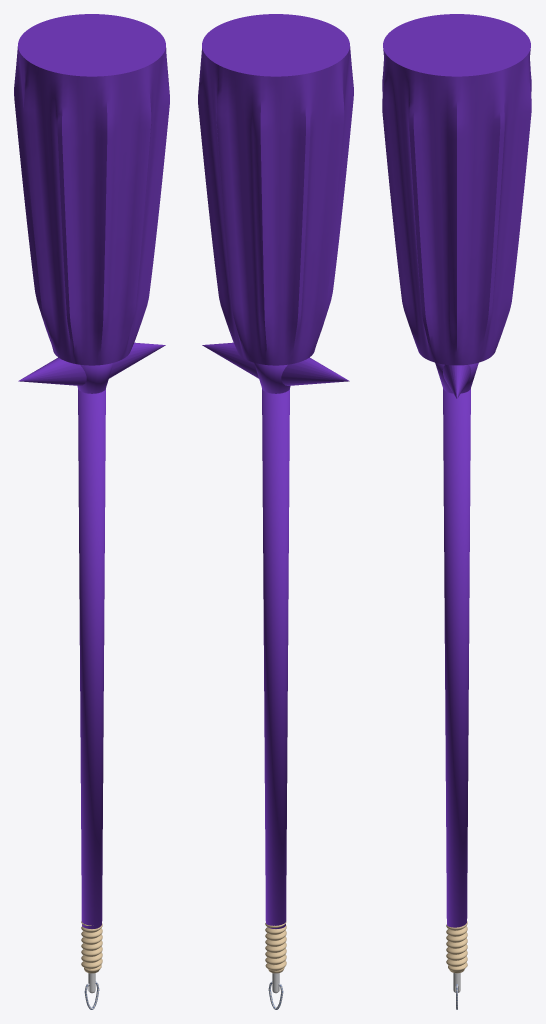
The model's file is implanter-xtraloc.glb.
3 views of the same model, side by side, from view 1: azimuth 30°, elevation 25°; view 2: azimuth 150°, elevation 25°; view 3: azimuth 270°, elevation 25° (orthographic).
Parts seen in each view (by area): view 1: handle, shaft, wings, anchor, neck; view 2: handle, shaft, wings, anchor, neck; view 3: handle, shaft, anchor, wings, neck.
Boxes of the visible parts, x1,y1,x2,y2 form: handle: (14,14,169,365); shaft: (78,389,105,928); wings: (18,342,165,385); anchor: (81,921,102,1009); neck: (77,362,113,393); handle: (198,14,353,365); shaft: (262,389,289,928); wings: (202,342,349,385); anchor: (265,921,286,1009); neck: (254,362,290,393); handle: (382,14,531,365); shaft: (443,389,470,927); anchor: (446,921,467,1009); wings: (442,364,471,398); neck: (435,362,478,393).
Bounding box in the file's own units: 0.044 × 0.2731 × 0.0384.
4 materials, 1 textured.
